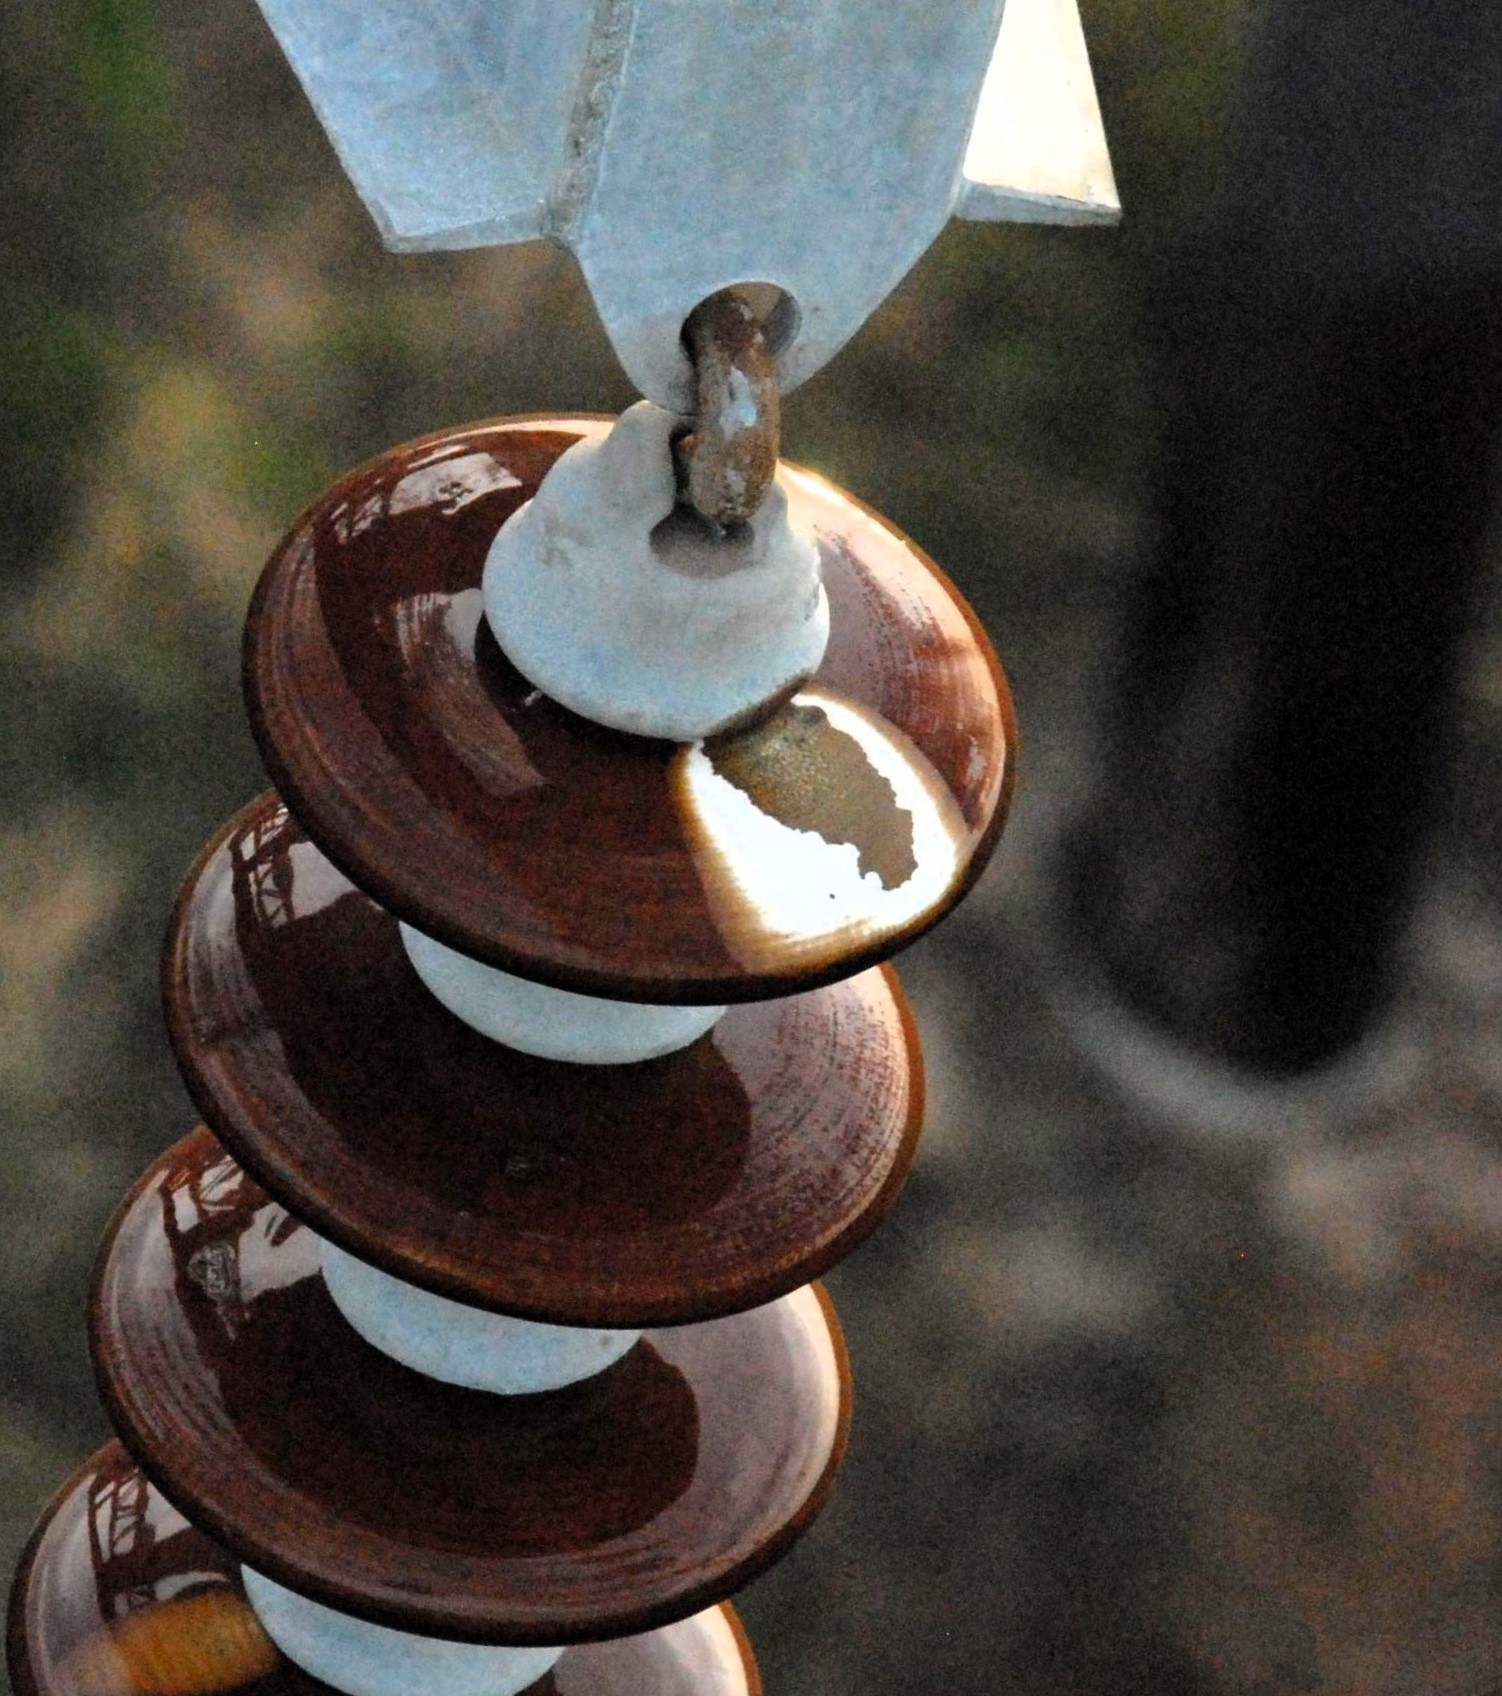Insulator flashover: (228, 415, 1034, 1028)
